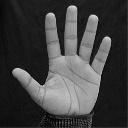hand: (11, 4, 111, 118)
